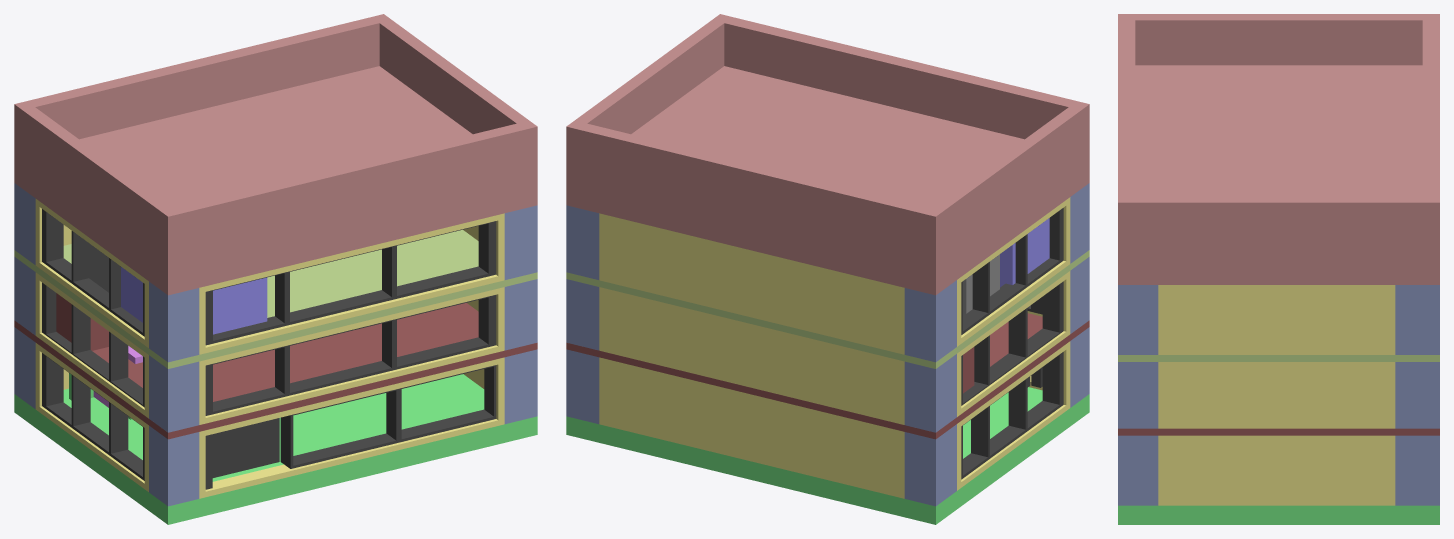
The model's file is GameRoomVer02.fbx.
3 views of the same model, side by side, from view 1: azimuth 30°, elevation 25°; view 2: azimuth 150°, elevation 25°; view 3: azimuth 270°, elevation 25° (orthographic). The views are drawn at different scales.
Parts seen in each view (by area): view 1: Top, OuterWall, FloorGide2, Floor, FoorGround001, FoorGround, 2stScreenSide02, 3stScreenSide02, 1stScreenSide2, 1stScreenSide01, 3stScreenSide002, 2stScreenSide01 (+3 smaller); view 2: Top, OuterWall, FloorGide2, Floor, FoorGround001, 1stScreenSide01, FoorGround, 2stScreenSide01, 3stScreenSide002, 관리실, 2층계단벽; view 3: Top, OuterWall, FloorGide2, Floor, FoorGround001, FoorGround.
Boxes of the visible parts, x1,y1,x2,y2 form: Top: [14, 14, 537, 295]; OuterWall: [35, 199, 504, 498]; FloorGide2: [14, 183, 537, 506]; Floor: [14, 373, 537, 524]; FoorGround001: [14, 293, 537, 439]; FoorGround: [14, 229, 537, 368]; 2stScreenSide02: [205, 295, 496, 415]; 3stScreenSide02: [205, 221, 496, 345]; 1stScreenSide2: [205, 365, 496, 489]; 1stScreenSide01: [42, 353, 144, 480]; 3stScreenSide002: [42, 209, 144, 336]; 2stScreenSide01: [42, 282, 144, 407]; Top: [566, 14, 1089, 295]; OuterWall: [599, 197, 1070, 498]; FloorGide2: [566, 183, 1089, 506]; Floor: [566, 387, 1089, 524]; FoorGround001: [566, 313, 1089, 439]; 1stScreenSide01: [961, 352, 1063, 479]; FoorGround: [566, 250, 1089, 368]; 2stScreenSide01: [961, 281, 1063, 405]; 3stScreenSide002: [961, 208, 1063, 334]; 관리실: [1000, 218, 1049, 287]; 2층계단벽: [963, 254, 999, 314]; Top: [1118, 14, 1439, 284]; OuterWall: [1158, 285, 1395, 505]; FloorGide2: [1118, 285, 1439, 505]; Floor: [1118, 505, 1439, 524]; FoorGround001: [1118, 428, 1439, 435]; FoorGround: [1118, 355, 1439, 361].
Bounding box in the file's own units: 416 × 331 × 300.
